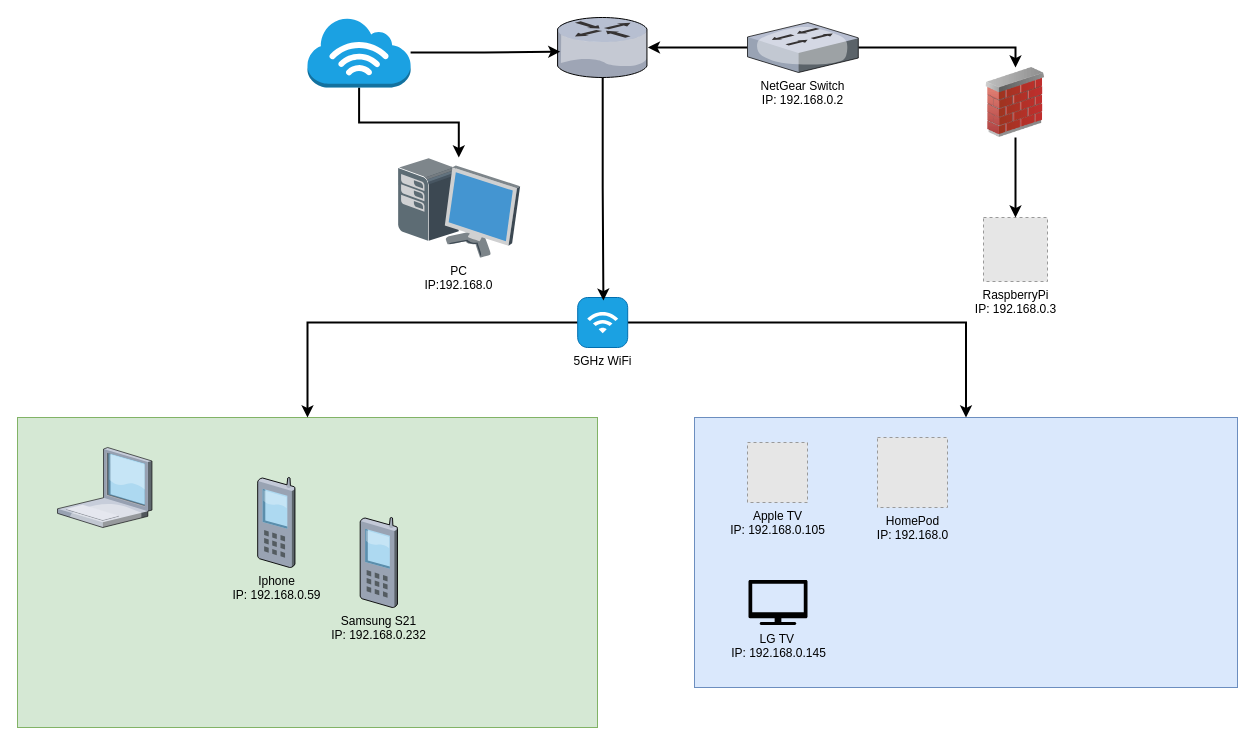
This 1255x745 diagram has some shape labels left out. Grey dashed boxes stand in for pictures. Each missing label, with the centre of its shape:
"Home Router IP: 192.168.0.1" goes at point (602, 47).
"Internet" goes at point (358, 52).
"Macbook Pro IP: 192.168.0.127" goes at point (104, 487).
"UFW Firewall(RaspberryPi)" goes at point (1015, 102).
